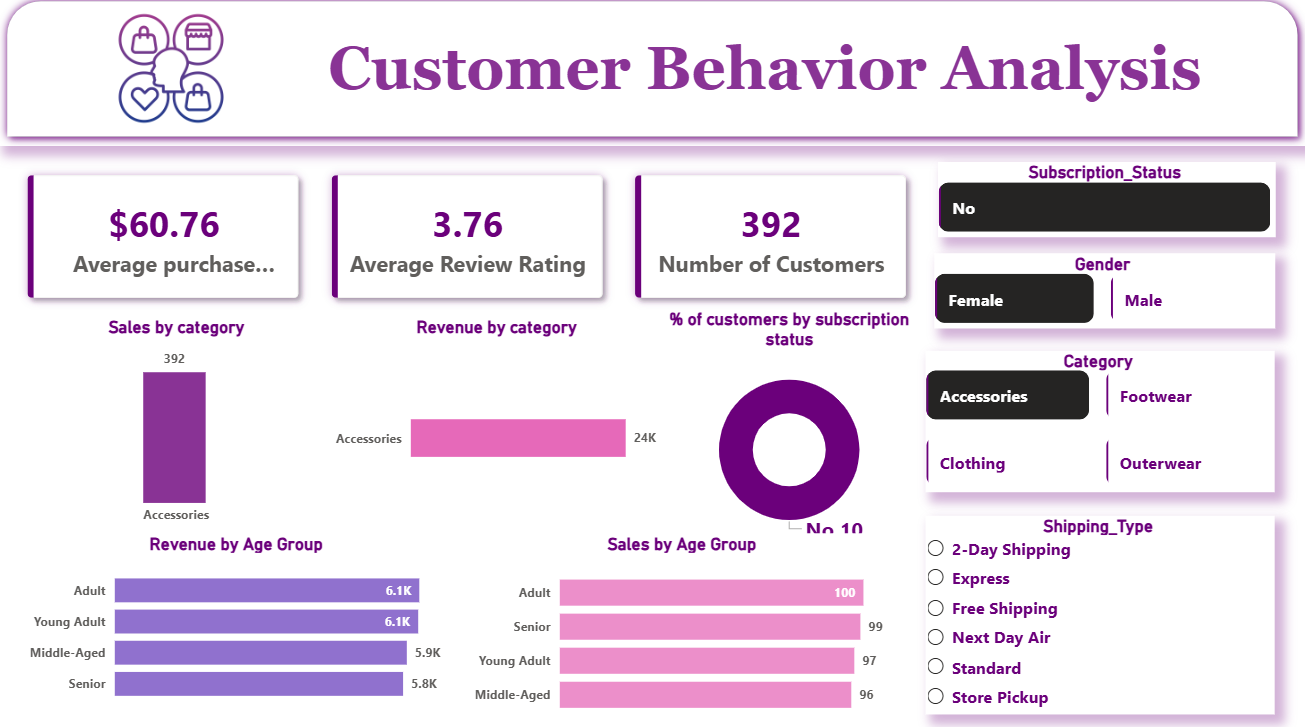

What the dashboard file says about the page in this screenshot:
{"tool":"powerbi","page":{"name":"Page 1","canvas":[1280,720],"ordinal":0},"visuals":[{"type":"cardVisual","fields":{"Data":["customer_behavior customer.Average purchase amount","customer_behavior customer.Average Review Rating","customer_behavior customer.Number of Customers"]},"box":[0,150,919,178.9],"z":0},{"type":"shape","box":[0,0,1280.3,150.4],"z":1000},{"type":"textbox","box":[238.5,36.7,1023.5,85.6],"z":2000},{"type":"image","box":[50.1,18.3,238.5,112.5],"z":3000},{"type":"donutChart","title":"% of customers by subscription status","fields":{"Category":["customer_behavior customer.subscription_status"],"Y":["CountNonNull(customer_behavior customer.customer_id)"]},"box":[640.6,305.9,266.9,242.4],"z":4000},{"type":"clusteredBarChart","title":"Revenue by category","fields":{"Category":["customer_behavior customer.category"],"Y":["Sum(customer_behavior customer.purchase_amount)"]},"box":[324.6,317.4,327.5,212.1],"z":5000},{"type":"clusteredColumnChart","title":"Sales by category","fields":{"Y":["CountNonNull(customer_behavior customer.customer_id)"],"Category":["customer_behavior customer.category"]},"box":[24.5,317.4,300.1,212.1],"z":6000},{"type":"advancedSlicerVisual","title":"Subscription_Status","fields":{"Values":["customer_behavior customer.subscription_status"]},"box":[919,165.9,330.4,73.6],"z":7000},{"type":"advancedSlicerVisual","title":"Gender","fields":{"Values":["customer_behavior customer.gender"]},"box":[916.2,255.4,333.3,73.6],"z":8000},{"type":"advancedSlicerVisual","title":"Category","fields":{"Values":["customer_behavior customer.category"]},"box":[907.5,350.6,341.9,138.5],"z":9000},{"type":"listSlicer","title":"Shipping_Type","fields":{"Values":["customer_behavior customer.shipping_type"]},"box":[907.5,512.2,341.9,194.8],"z":9001},{"type":"clusteredBarChart","title":"Revenue by Age Group","fields":{"Category":["customer_behavior customer.age_group"],"Y":["Sum(customer_behavior customer.purchase_amount)"]},"box":[24.5,529.5,417,177.5],"z":9002},{"type":"clusteredBarChart","title":"Sales by Age Group","fields":{"Category":["customer_behavior customer.age_group"],"Y":["CountNonNull(customer_behavior customer.customer_id)"]},"box":[460.2,529.5,418.4,190.4],"z":9003}]}

Visuals, with their boxes in screenshot pixels (x1, y1, x2, y2), scaled from the page's 1280x720 canvas onto the 1305x727 screenshot:
cardVisual - customer_behavior customer.Average purchase amount x customer_behavior customer.Average Review Rating: [0,151,937,332]
shape: [0,0,1304,152]
textbox: [243,37,1287,123]
image: [51,18,294,132]
"% of customers by subscription status" donutChart: [653,309,925,554]
"Revenue by category" clusteredBarChart: [331,320,665,535]
"Sales by category" clusteredColumnChart: [25,320,331,535]
"Subscription_Status" advancedSlicerVisual: [937,168,1274,242]
"Gender" advancedSlicerVisual: [934,258,1274,332]
"Category" advancedSlicerVisual: [925,354,1274,494]
"Shipping_Type" listSlicer: [925,517,1274,714]
"Revenue by Age Group" clusteredBarChart: [25,535,450,714]
"Sales by Age Group" clusteredBarChart: [469,535,896,726]
